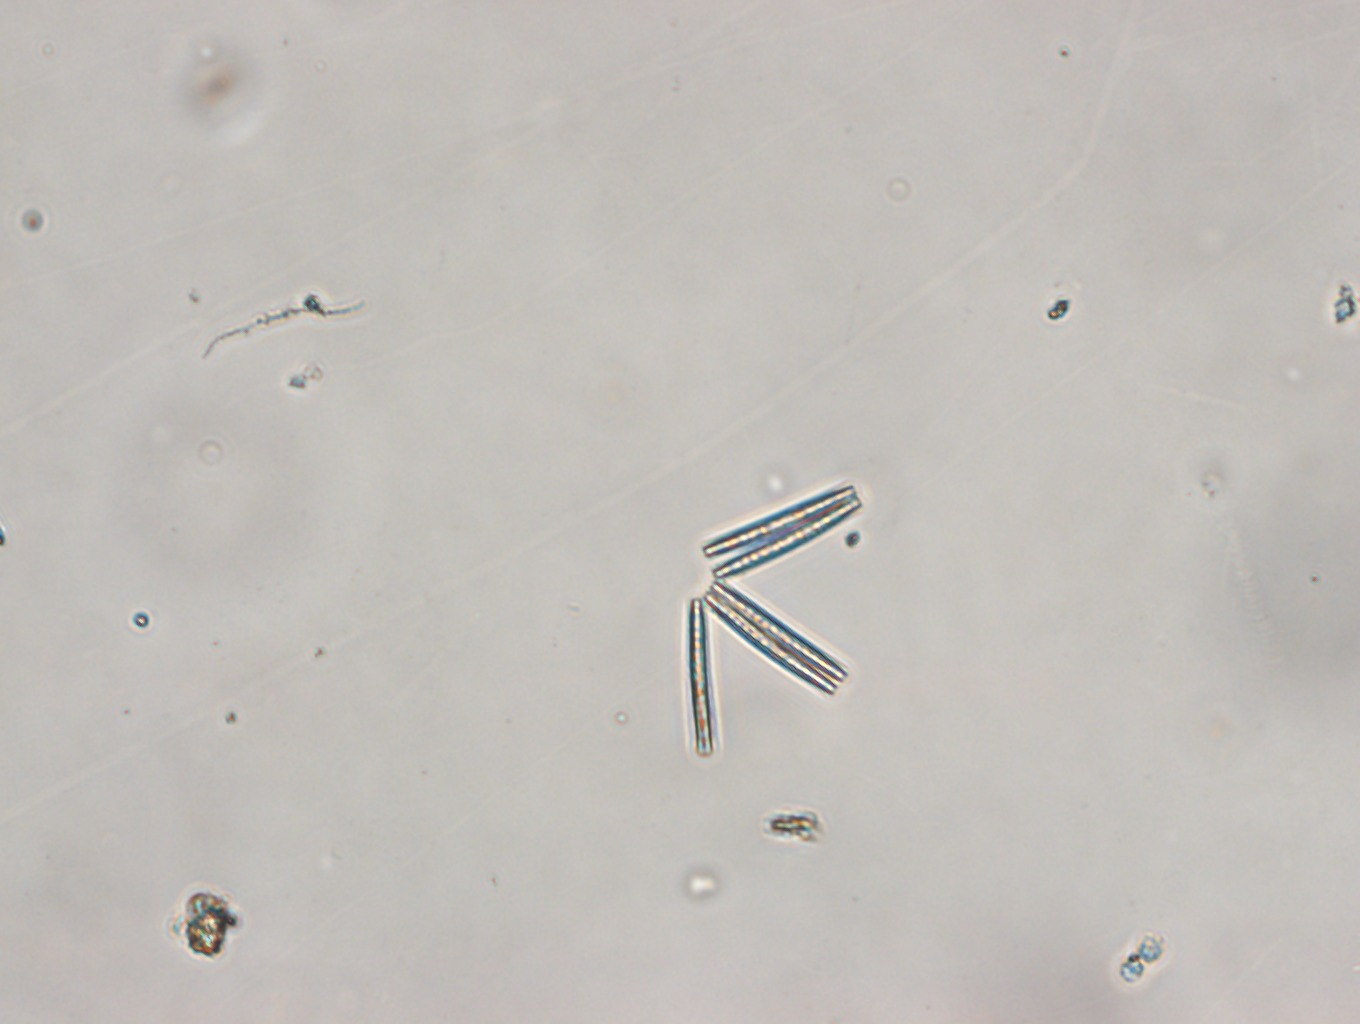thalassionema nitzschioides: (673, 478, 863, 752)
